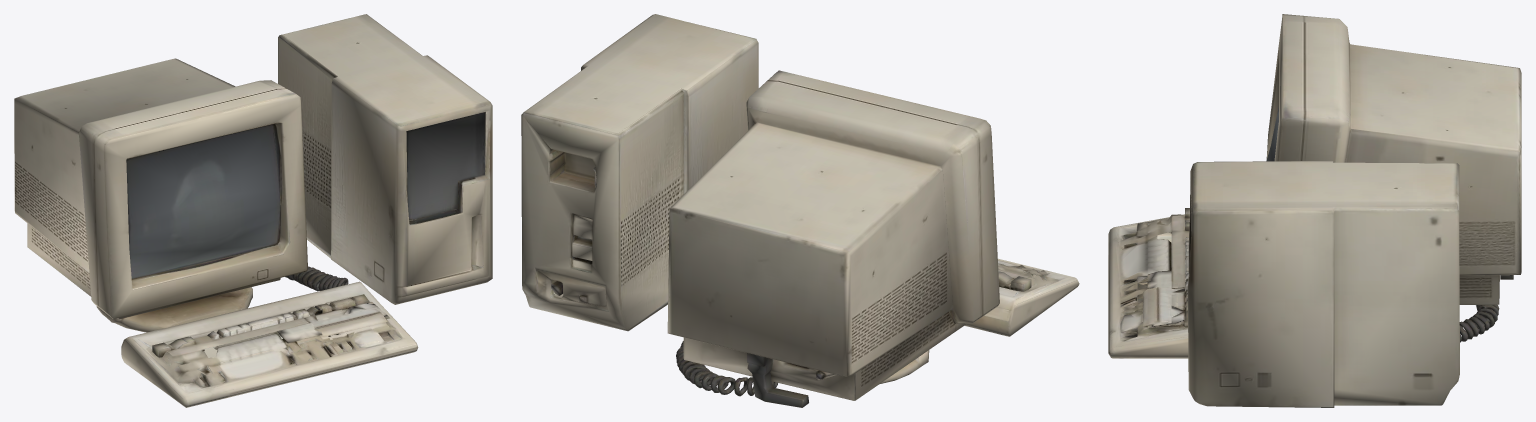
Rendered from computer-transformed.glb.
3 renders of one model, left to right at view 1: azimuth 30°, elevation 25°; view 2: azimuth 150°, elevation 25°; view 3: azimuth 270°, elevation 25°, orthographic. The views are drawn at different scales.
Bounding box in the file's own units: 2 × 1.16 × 1.91.
1 material, 1 textured.
